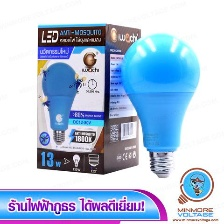book: (32, 18, 142, 175)
light_bulb: (116, 30, 203, 181)
